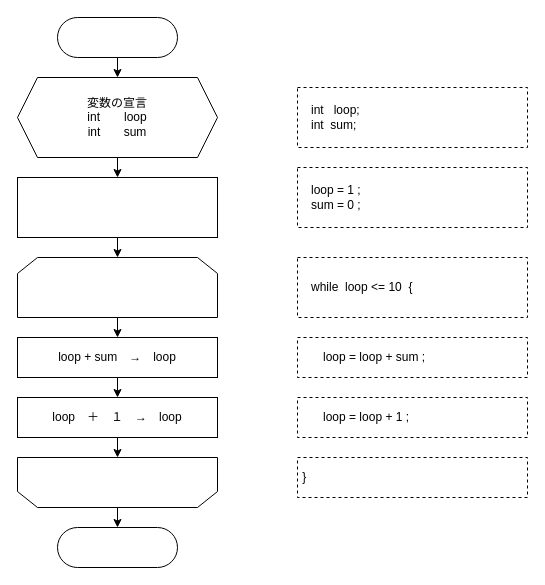
Some shapes in this 545 by 585 pixel diagram are drawn without their labels. The centre of each missing label's shape, as x and y in pixels:
"1 → loop 0 → sum" goes at (x=117, y=207).
"End" goes at (x=117, y=547).
"loop ≦ 10 の時繰り返し" goes at (x=117, y=287).
"Start" goes at (x=117, y=37).
